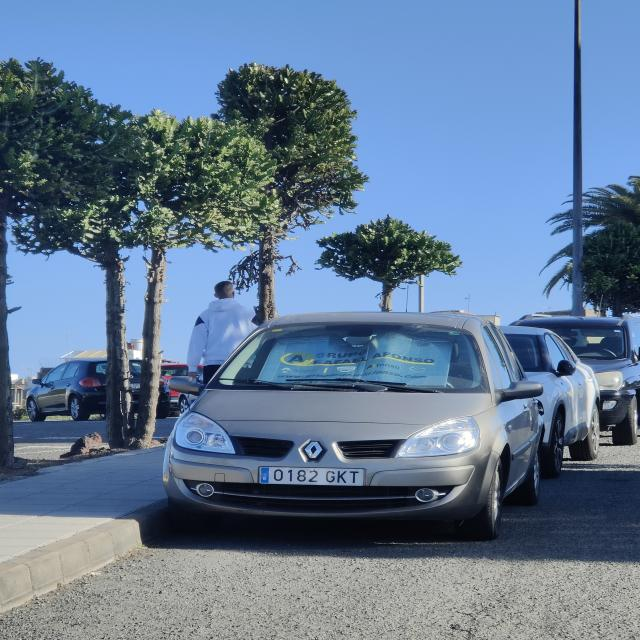License-Plate: (260, 464, 366, 488)
